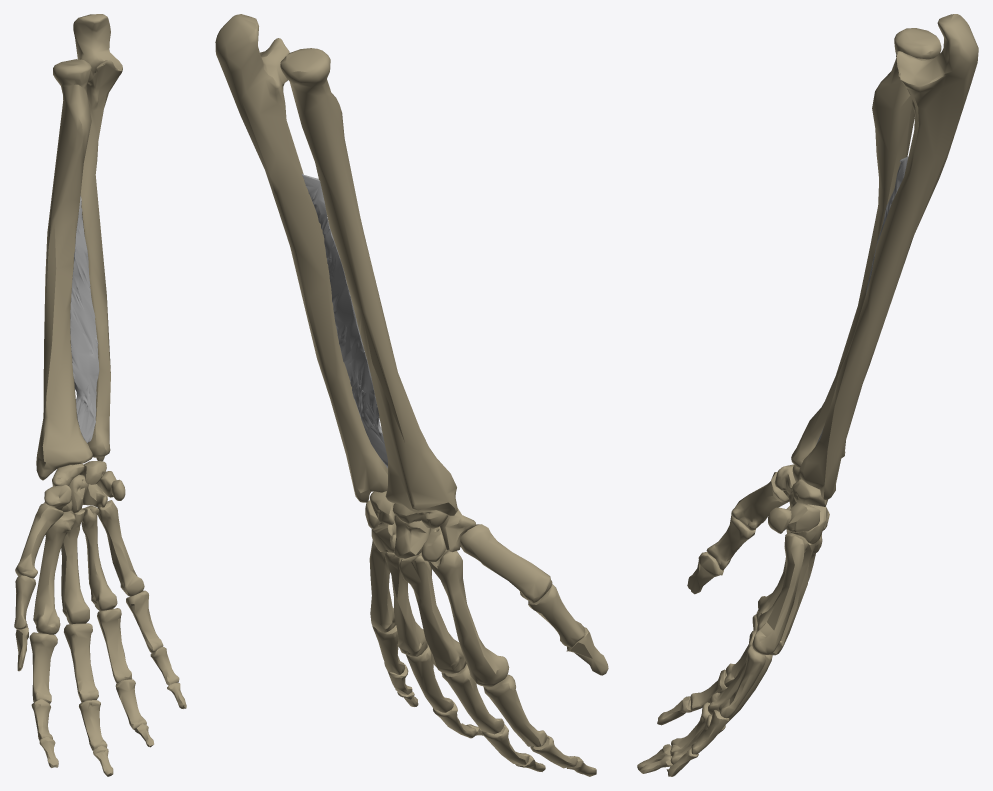
Rendered from downarmright.obj.
The picture shows the model from 3 angles, left to right: view 1: azimuth 30°, elevation 25°; view 2: azimuth 150°, elevation 25°; view 3: azimuth 270°, elevation 25°; orthographic projection. The views are drawn at different scales.
Parts seen in each view (by area): view 1: 23464_R._radius, 23467_R._ulna, 23707_interosseous_me, 24466_R._second_metac, 24468_R._third_metaca, 24472_R._fifth_metaca, 24470_R._fourth_metac, 24452_proximal_phalan, 24464_R._first_metaca, 24451_proximal_phalan, 24453_proximal_phalan, 24454_proximal_phalan (+13 smaller); view 2: 23467_R._ulna, 23464_R._radius, 23707_interosseous_me, 24466_R._second_metac, 24468_R._third_metaca, 24464_R._first_metaca, 24470_R._fourth_metac, 24451_proximal_phalan, 24472_R._fifth_metaca, 24452_proximal_phalan, 24450_proximal_phalan, 24453_proximal_phalan (+6 smaller); view 3: 23467_R._ulna, 23464_R._radius, 24472_R._fifth_metaca, 24464_R._first_metaca, 24450_proximal_phalan, 24454_proximal_phalan, 24470_R._fourth_metac, 24459_distal_phalanx_, 24439_R._triquetral, 24437_R._lunate, 24452_proximal_phalan, 24458_middle_phalanx_ (+1 smaller).
Part boxes in pixels (box(x1,y1,x2,y2)): 23464_R._radius: box(36, 59, 92, 480); 23467_R._ulna: box(73, 14, 122, 461); 23707_interosseous_me: box(70, 195, 99, 443); 24466_R._second_metac: box(33, 511, 75, 634); 24468_R._third_metaca: box(61, 509, 89, 624); 24472_R._fifth_metaca: box(97, 500, 144, 596); 24470_R._fourth_metac: box(81, 506, 117, 611); 24452_proximal_phalan: box(64, 623, 98, 702); 24464_R._first_metaca: box(15, 503, 63, 578); 24451_proximal_phalan: box(29, 632, 57, 703); 24453_proximal_phalan: box(97, 608, 132, 683); 24454_proximal_phalan: box(126, 590, 163, 652); 23467_R._ulna: box(215, 14, 387, 502); 23464_R._radius: box(280, 48, 457, 516); 23707_interosseous_me: box(302, 174, 387, 468); 24466_R._second_metac: box(428, 549, 509, 687); 24468_R._third_metaca: box(399, 552, 466, 673); 24464_R._first_metaca: box(460, 524, 552, 603); 24470_R._fourth_metac: box(383, 552, 427, 656); 24451_proximal_phalan: box(483, 674, 546, 746); 24472_R._fifth_metaca: box(369, 540, 396, 632); 24452_proximal_phalan: box(441, 664, 504, 734); 24450_proximal_phalan: box(528, 584, 585, 647); 24453_proximal_phalan: box(406, 644, 453, 712); 23467_R._ulna: box(799, 14, 978, 499); 23464_R._radius: box(791, 28, 941, 468); 24472_R._fifth_metaca: box(752, 532, 807, 655); 24464_R._first_metaca: box(731, 471, 789, 530); 24450_proximal_phalan: box(706, 515, 755, 570); 24454_proximal_phalan: box(718, 645, 765, 718); 24470_R._fourth_metac: box(770, 536, 816, 655); 24459_distal_phalanx_: box(687, 552, 723, 594); 24439_R._triquetral: box(786, 502, 820, 532); 24437_R._lunate: box(792, 479, 827, 506); 24452_proximal_phalan: box(708, 630, 756, 714); 24458_middle_phalanx_: box(691, 710, 729, 754).
Size of the model in its own units: 4.93 by 15.48 by 5.86.
